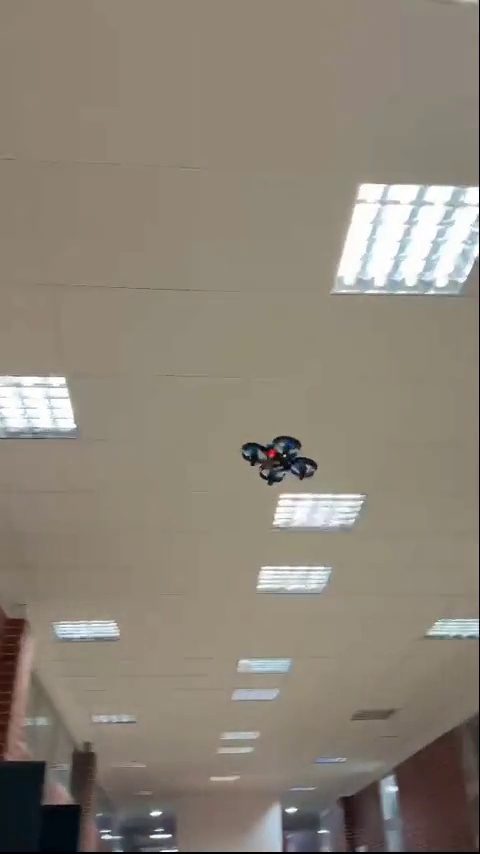drone: (236, 429, 313, 491)
